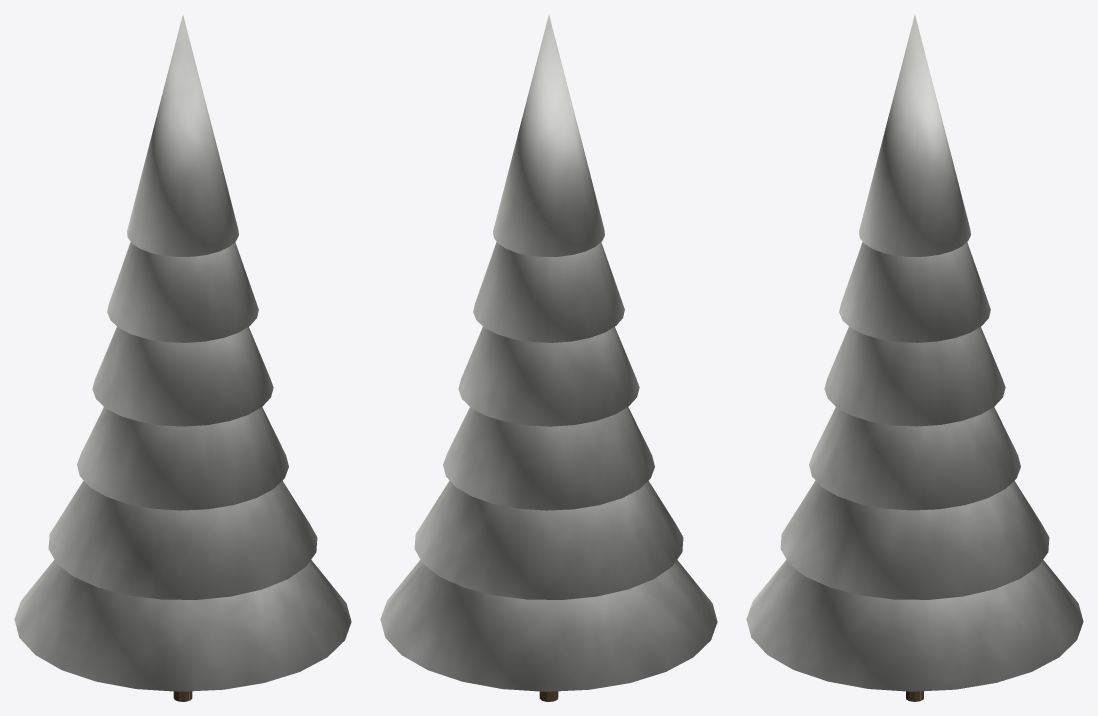
File: smrk_v1.glb
3 views of the same model, side by side, from view 1: azimuth 30°, elevation 25°; view 2: azimuth 150°, elevation 25°; view 3: azimuth 270°, elevation 25° (orthographic).
Parts seen in each view (by area): view 1: dum; view 2: dum; view 3: dum.
Part boxes in pixels (<box>): dum: <box>14,15,351,701</box>; dum: <box>380,15,717,701</box>; dum: <box>746,15,1083,701</box>.
Bounding box in the file's own units: 5.67 × 12.69 × 5.67.
Materials: 1 (1 with a texture image).
